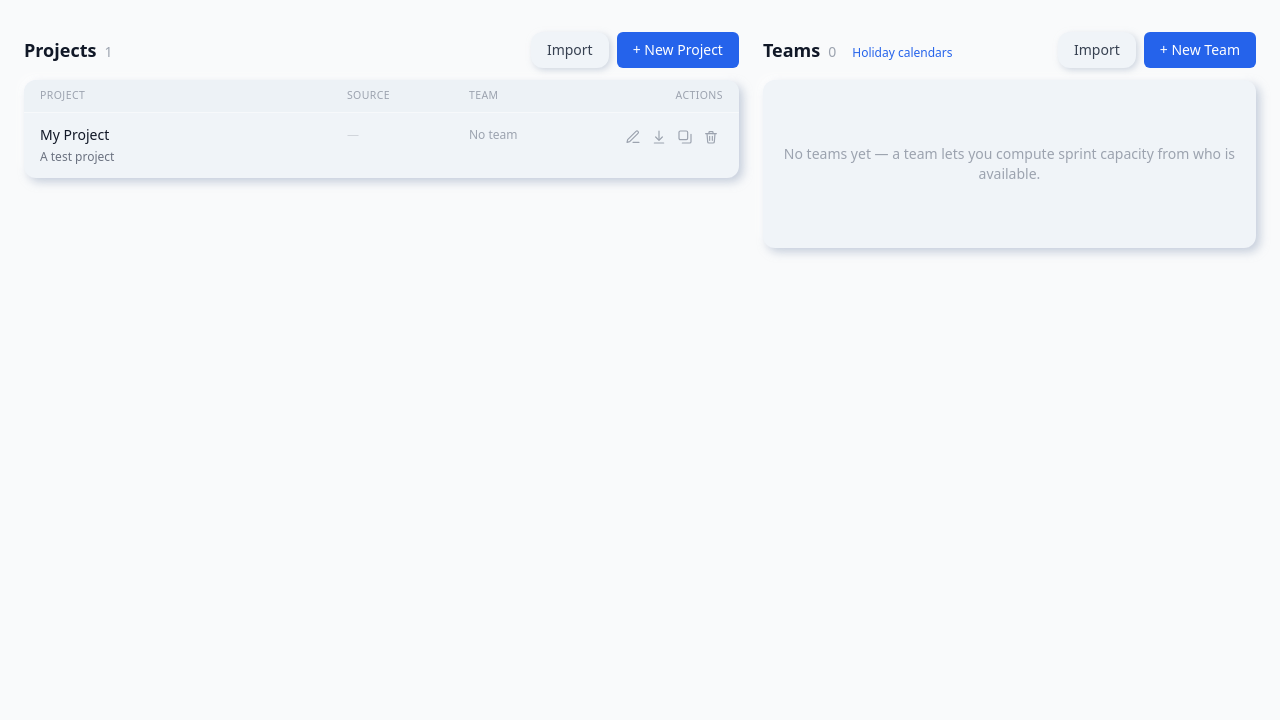
Test: ProjectListPage › shows Snapshots button per project and opens the modal on click
The width and height of the screenshot is (1280, 720).
What coordinates should you click on to do the following:
click the button named "Snapshots"
I would click on:
 (685, 137)
Its box is [673, 125, 697, 149].
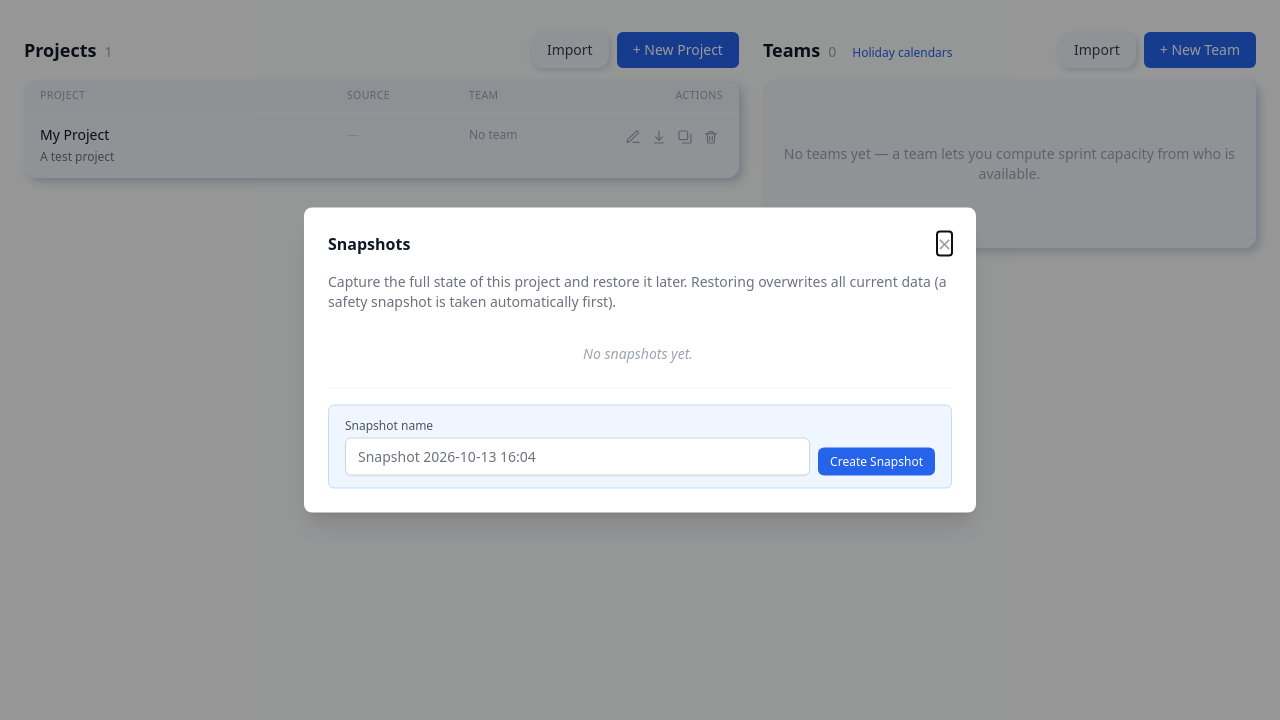
Result: the dialog is shown at [304, 208, 976, 512]
Result: the heading "Snapshots" is shown at [328, 232, 410, 256]
